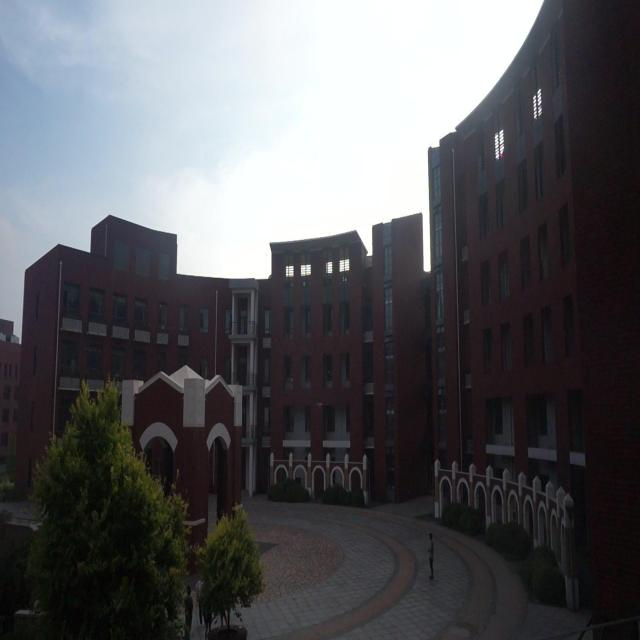drone: (315, 394, 325, 412)
